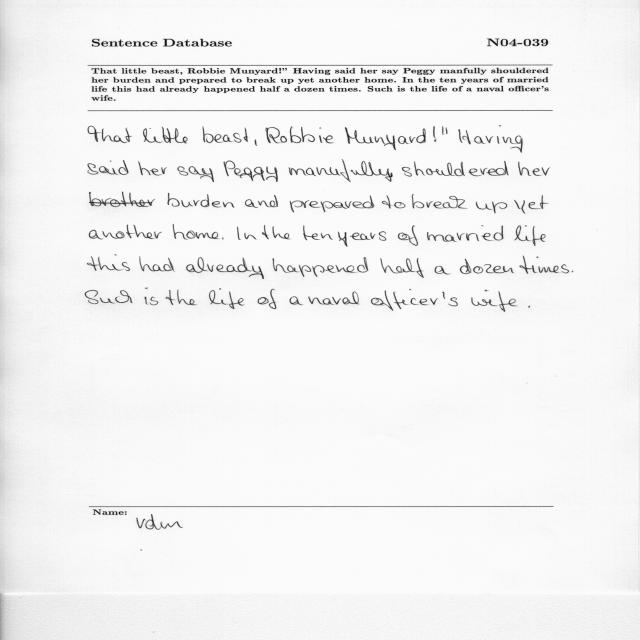word: (90, 192, 235, 208), (289, 160, 393, 182), (273, 257, 369, 277), (371, 289, 458, 311), (345, 127, 426, 150), (458, 126, 523, 153), (186, 257, 264, 279), (402, 161, 509, 176), (290, 196, 374, 213), (427, 225, 503, 242), (224, 160, 278, 182), (265, 127, 334, 144), (89, 225, 162, 240), (471, 290, 517, 312), (519, 256, 569, 274), (380, 258, 424, 278), (412, 194, 467, 209), (460, 259, 514, 274), (338, 231, 386, 247), (143, 127, 188, 144), (88, 126, 132, 143), (203, 127, 249, 143), (209, 288, 244, 309), (308, 291, 359, 305), (173, 225, 219, 240), (87, 255, 130, 271), (85, 290, 133, 304), (515, 225, 546, 246), (88, 160, 129, 175), (514, 196, 548, 214), (177, 166, 214, 182), (139, 256, 175, 272), (303, 226, 333, 241), (166, 290, 196, 305), (518, 162, 550, 176), (138, 161, 167, 176), (245, 195, 278, 208), (398, 225, 418, 246), (262, 225, 290, 239), (476, 202, 507, 214), (258, 289, 276, 309), (382, 196, 406, 209), (237, 227, 257, 240), (145, 288, 159, 305), (434, 266, 451, 274), (290, 297, 304, 306), (442, 126, 448, 135), (433, 126, 436, 142), (255, 139, 257, 146), (528, 305, 530, 308), (222, 238, 224, 240), (572, 271, 574, 272)
